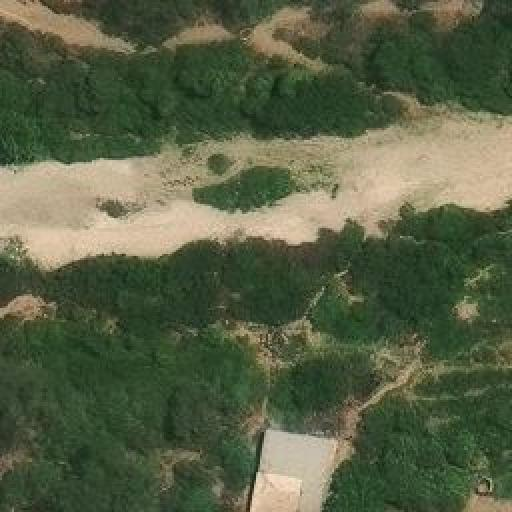manzanas: (249, 427, 341, 510)
